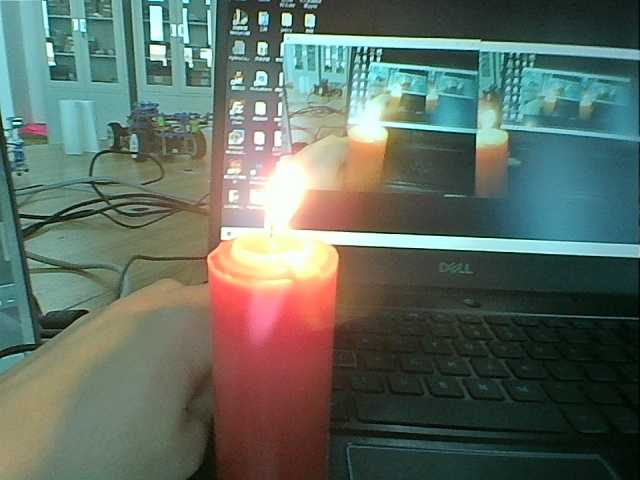candle: (200, 239, 336, 480), (343, 134, 390, 197), (475, 141, 506, 196)
fire: (248, 161, 310, 233), (355, 101, 384, 130), (478, 106, 499, 134)
